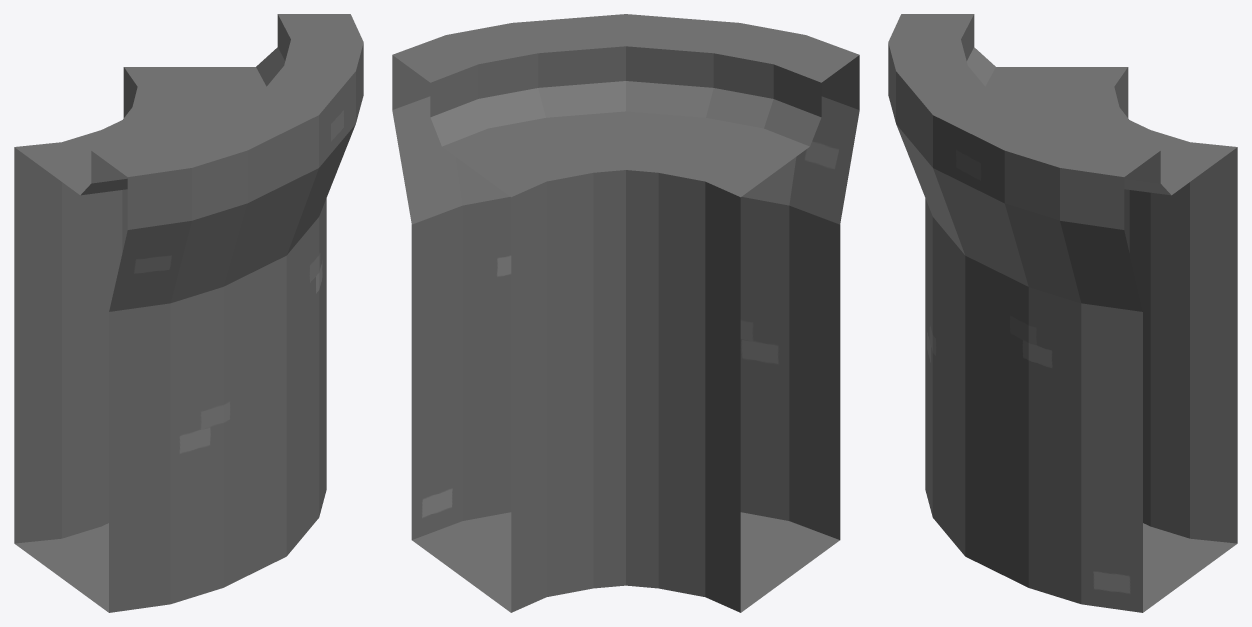
Rendered from Muralla(Corva).FBX.
The picture shows the model from 3 angles, left to right: view 1: azimuth 30°, elevation 25°; view 2: azimuth 150°, elevation 25°; view 3: azimuth 270°, elevation 25°; orthographic projection. The views are drawn at different scales.
Parts seen in each view (by area): view 1: Object; view 2: Object; view 3: Object.
Boxes of the visible parts, x1,y1,x2,y2 form: Object: [14, 14, 363, 612]; Object: [392, 14, 859, 612]; Object: [888, 14, 1237, 612].
Size of the model in its own units: 26.48 by 34 by 23.96.
